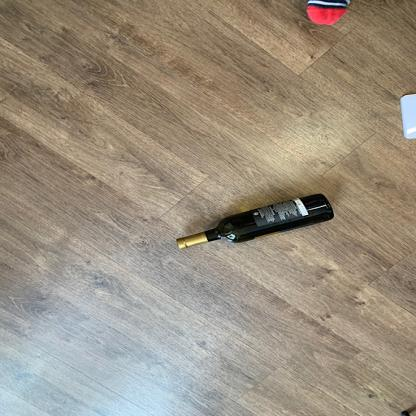trash: (172, 193, 340, 252)
